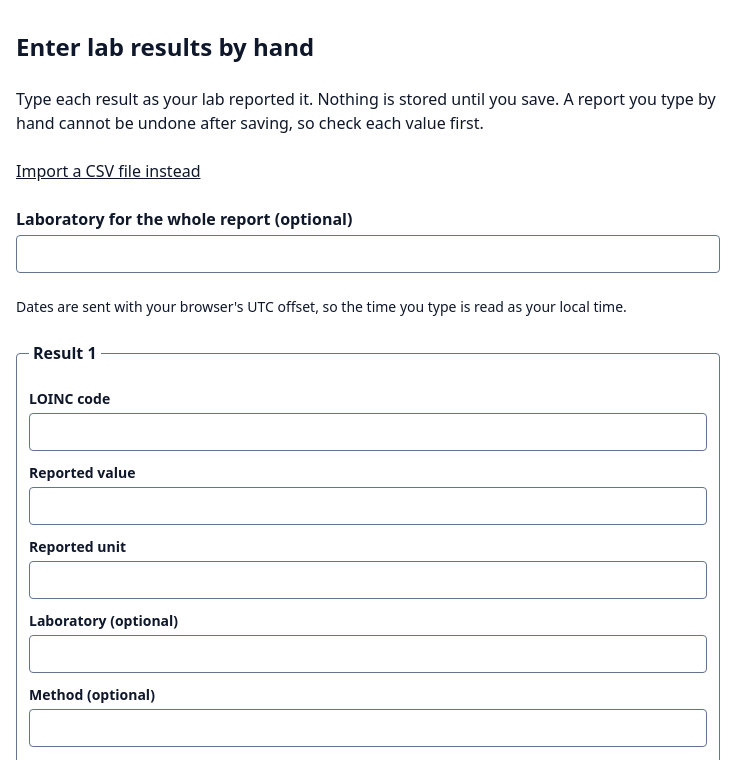
Scenario: a row-level non_field_errors message and a laboratory error are shown
Type "0000-0" into the field labelled "LOINC code" at (368, 432), box [29,413,707,451]
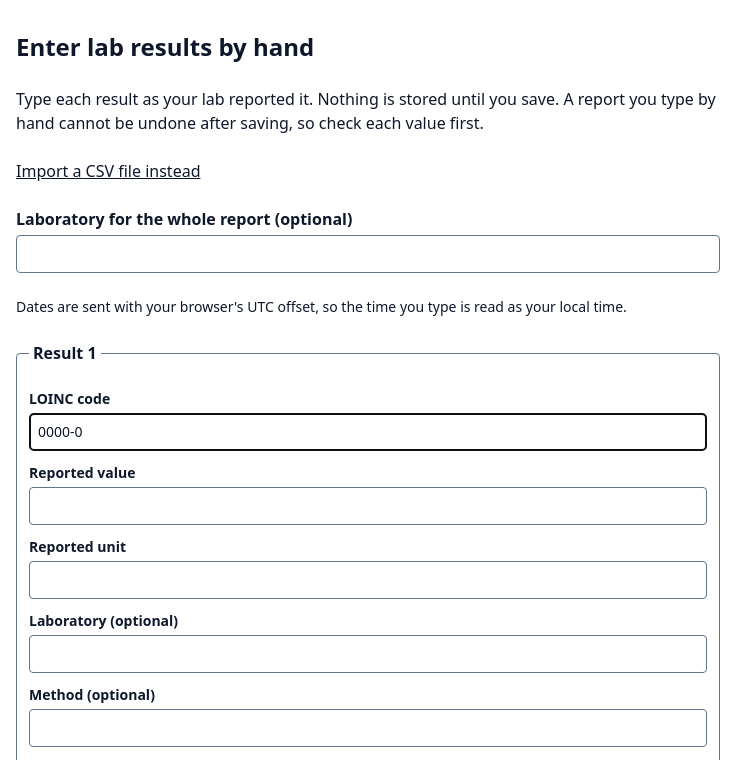
Type "1" into the field labelled "Reported value" at (368, 506), box [29,487,707,525]
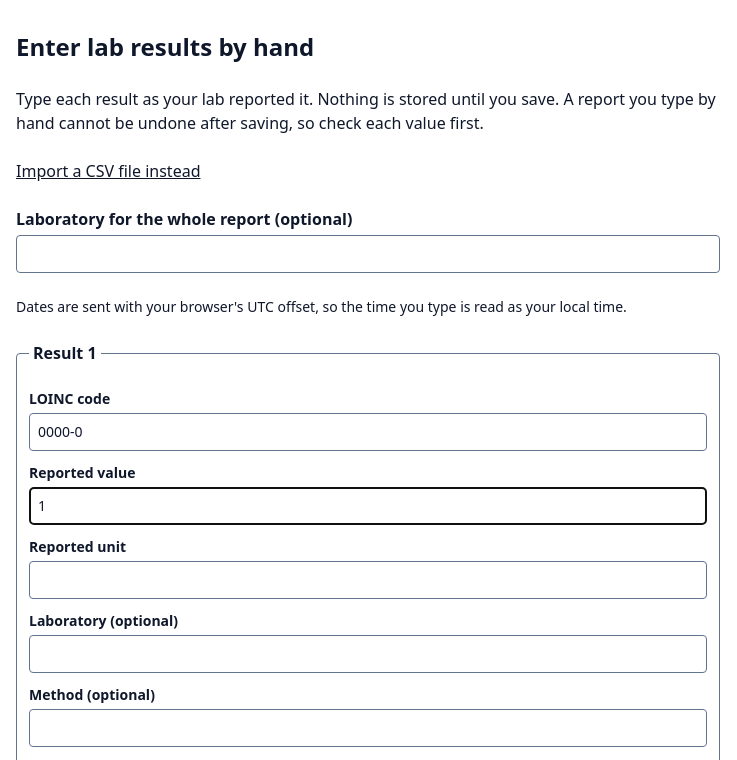
Type "xa/L" into the field labelled "Reported unit" at (368, 580), box [29,561,707,599]
(page scrolled)
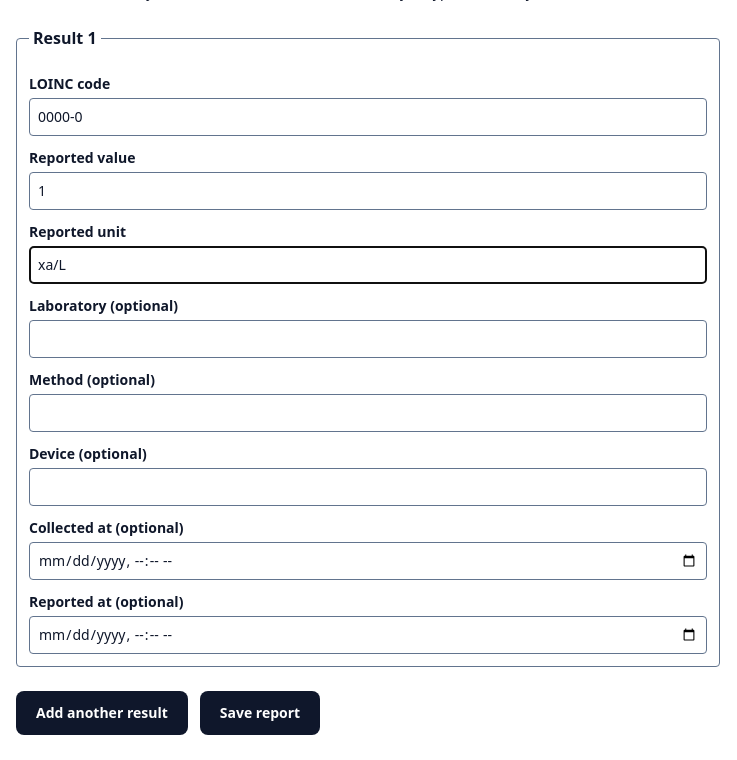
Click the button "Save report" at (260, 713), box [200,691,320,735]
(page scrolled)
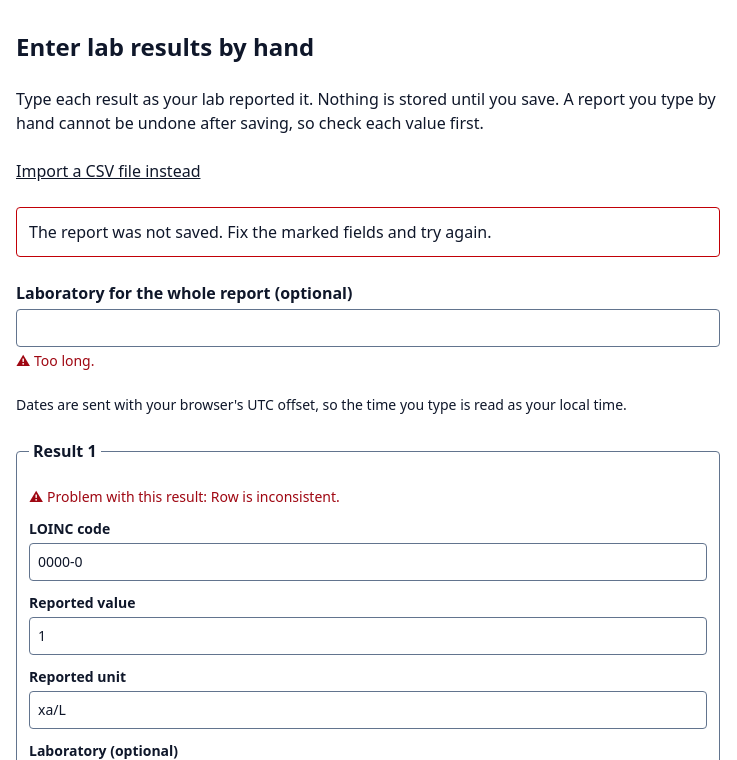
Expected: the text "⚠ Problem with this result: Row is inconsistent." is shown, [29,487,340,506]
